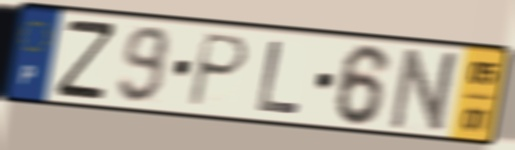6: (334, 42, 391, 129)
9: (114, 23, 173, 106)
L: (254, 37, 305, 117)
N: (385, 45, 466, 136)
P: (183, 30, 253, 110)
Z: (53, 17, 119, 101)
